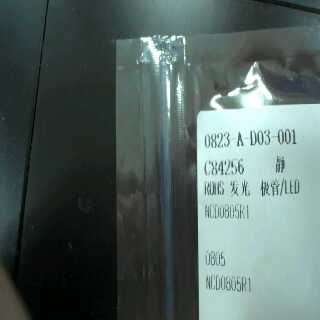LED: (231, 176, 305, 199)
